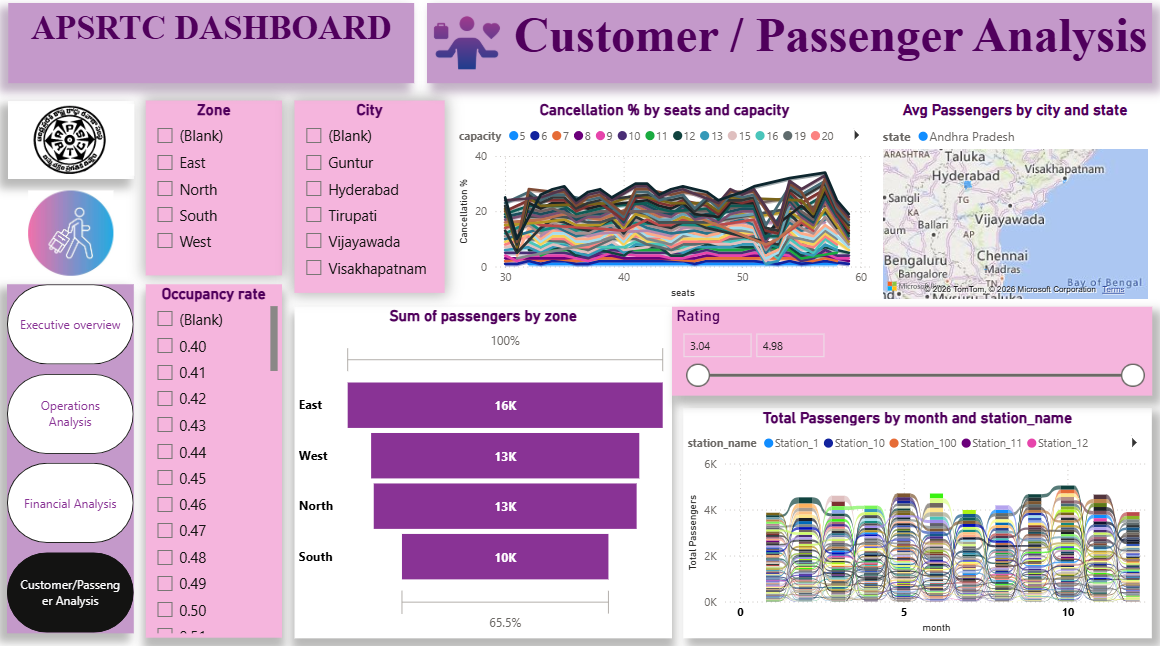

The dashboard page shown, as its layout file describes it:
{"tool":"powerbi","page":{"name":"Customer/Passenger Analysis","canvas":[1280,720],"ordinal":3},"visuals":[{"type":"funnel","fields":{"Y":["Sum(fact_trips.passengers)"],"Category":["dim_stations.zone"]},"box":[326.6,344.4,414.4,363.6],"z":0,"group":"g1"},{"type":"ribbonChart","fields":{"Category":["dim_dates.month"],"Y":["fact_trips.Total Passengers"],"Series":["dim_stations.station_name"]},"box":[753.3,455.6,514.6,252.5],"z":1000,"group":"g1"},{"type":"filledMap","fields":{"Category":["dim_stations.city"],"Series":["dim_stations.state"]},"box":[967.4,118,300.5,223.7],"z":2000,"group":"g1"},{"type":"stackedAreaChart","fields":{"Y":["fact_trips.Cancellation %"],"Series":["dim_stations.capacity"],"Category":["dim_buses.seats"]},"box":[502.2,118,461.1,222.3],"z":3000,"group":"g1"},{"type":"slicer","title":"Rating","fields":{"Values":["dim_buses.rating"]},"box":[741,344.4,526.9,97.4],"z":4000,"group":"g1"},{"type":"slicer","title":"Zone","fields":{"Values":["dim_stations.zone"]},"box":[163.3,118,149.6,192.1],"z":5000,"group":"g1"},{"type":"slicer","title":"City","fields":{"Values":["dim_stations.city"]},"box":[326.6,118,164.7,211.3],"z":6000,"group":"g1"},{"type":"slicer","title":"Occupancy rate","fields":{"Values":["fact_trips.occupancy_rate"]},"box":[163.3,319.7,149.6,388.3],"z":7000,"group":"g1"},{"type":"textbox","box":[12.3,11,446,87.8],"z":8000,"group":"g1"},{"type":"textbox","box":[472,11,795.9,87.8],"z":9000,"group":"g1"},{"type":"pageNavigator","box":[10.8,319.4,139.4,383],"z":10000,"group":"g1"},{"type":"image","box":[12.3,118,138.6,86.4],"z":11000,"group":"g1"},{"type":"image","box":[11,216.8,140,93.3],"z":11001,"group":"g1"},{"type":"image","box":[487.1,15.1,93.3,79.6],"z":11002,"group":"g1"},{"type":"group","id":"g1","title":"Group 1","box":[10.8,11,1257.1,697.1],"z":11003}]}

Visuals, with their boxes in screenshot pixels (x1, y1, x2, y2), scaled from the page's 1280x720 canvas onto the 1160x646 screenshot:
funnel - Sum(fact_trips.passengers) x dim_stations.zone: [296,309,672,635]
ribbonChart - dim_dates.month x fact_trips.Total Passengers: [683,409,1149,635]
filledMap - dim_stations.city x dim_stations.state: [877,106,1149,307]
stackedAreaChart - fact_trips.Cancellation % x dim_stations.capacity: [455,106,873,305]
"Rating" slicer: [672,309,1149,396]
"Zone" slicer: [148,106,284,278]
"City" slicer: [296,106,445,295]
"Occupancy rate" slicer: [148,287,284,635]
textbox: [11,10,415,89]
textbox: [428,10,1149,89]
pageNavigator: [10,287,136,630]
image: [11,106,137,183]
image: [10,195,137,278]
image: [441,14,526,85]
"Group 1" group: [10,10,1149,635]
